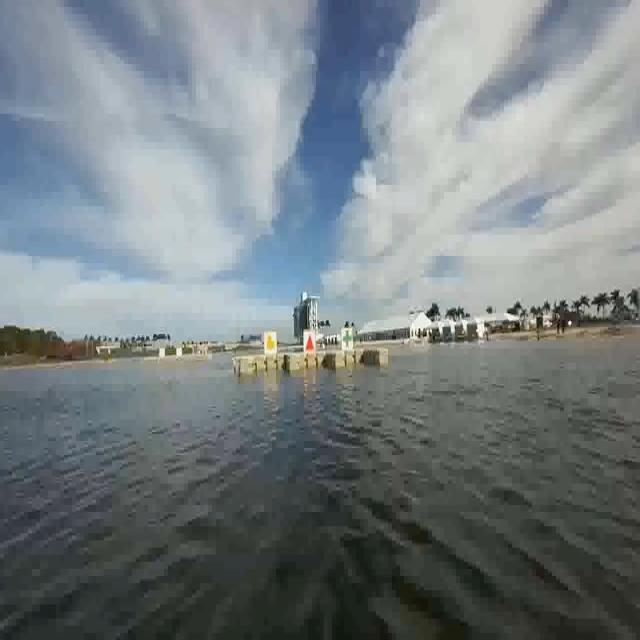blue-cross: (340, 326, 352, 352)
red-dot: (301, 331, 314, 354)
yellow-duck: (265, 331, 277, 356)
